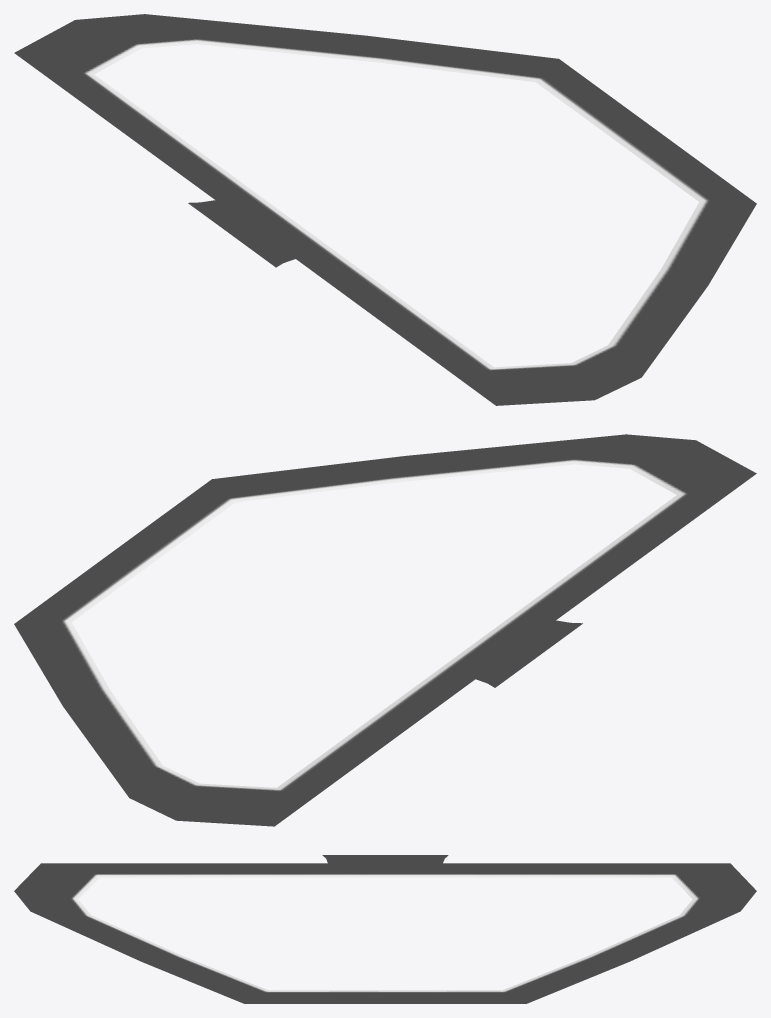
Rendered from CaptainsQuarters_Floor.fbx.
3 views of the same model, one above another, from view 1: azimuth 30°, elevation 25°; view 2: azimuth 150°, elevation 25°; view 3: azimuth 270°, elevation 25° (orthographic). The views are drawn at different scales.
Visible parts, largest first — view 1: CaptainsQuarters_Floor; view 2: CaptainsQuarters_Floor; view 3: CaptainsQuarters_Floor.
Boxes of the visible parts, left/top/right/bottom form: CaptainsQuarters_Floor: left=14, top=14, right=756, bottom=405; CaptainsQuarters_Floor: left=14, top=434, right=756, bottom=826; CaptainsQuarters_Floor: left=14, top=855, right=756, bottom=1003.
Size of the model in its own units: 2094 by 4.44 by 4420.
